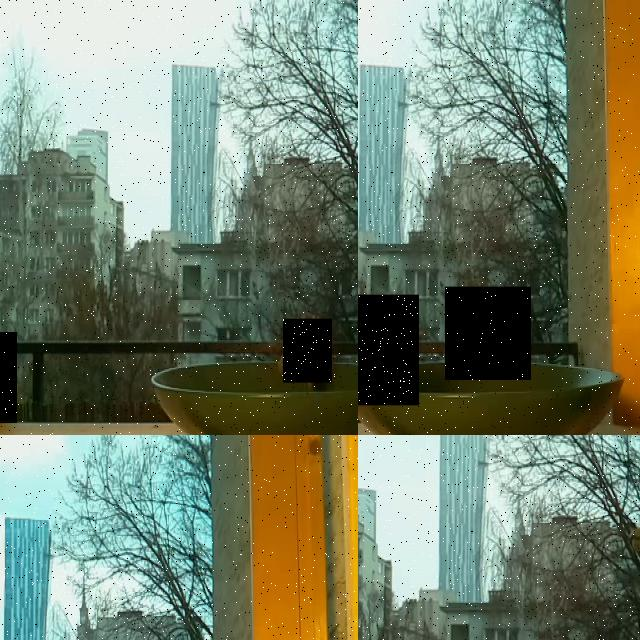Bogatka: (358, 294, 419, 405), (0, 332, 17, 422)
Wrobel: (445, 287, 531, 380), (283, 318, 332, 382)
